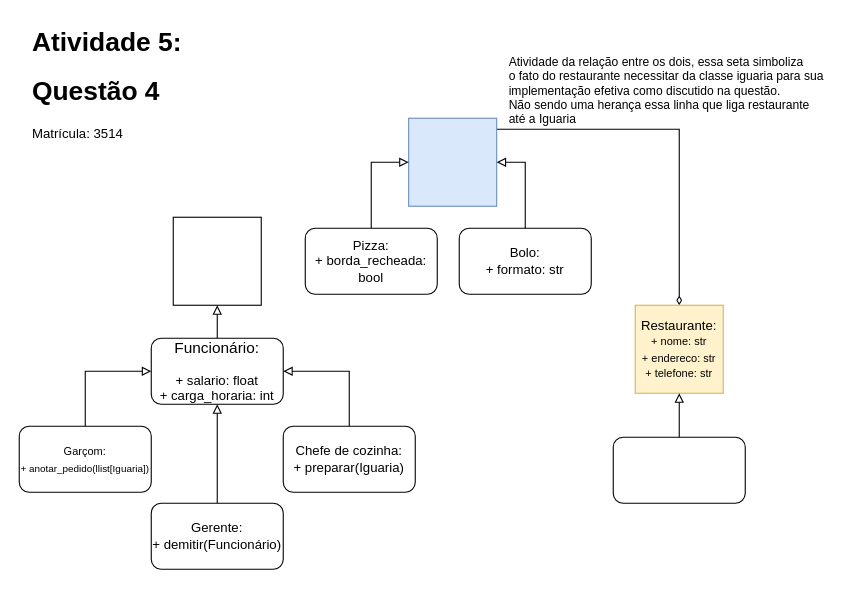
Some shapes in this 846 by 589 pixel diagram are drawn without their labels. Here are the shapes that lost their labels. From the top down, the centre of each, then its label:
At (x=452, y=161): "Iguaria(comida): + nome: string + preco: float".
At (x=216, y=260): "Pessoa: +nome: str +idade: int".
At (x=678, y=469): "Pizzaria: + rodízio: bool".
